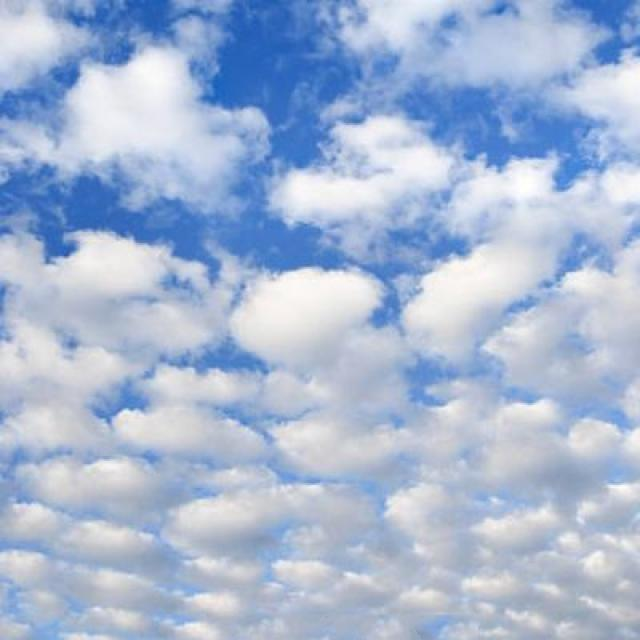Cc: (1, 57, 630, 591)
